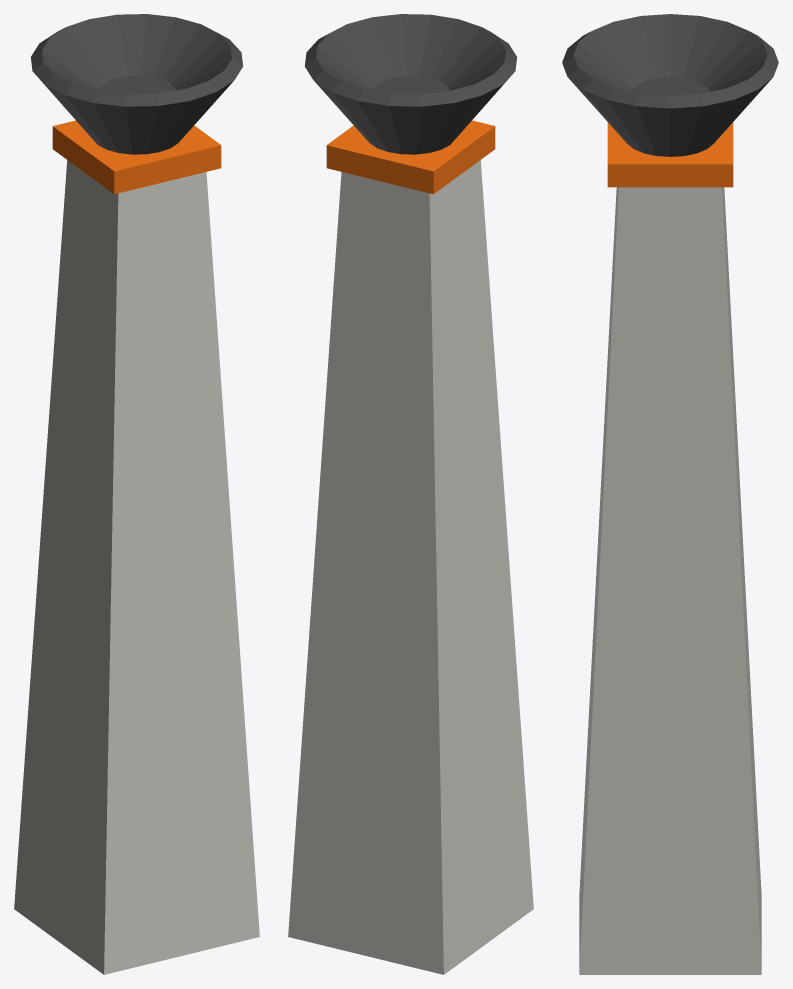
The model's file is SM_Torch.fbx.
The picture shows the model from 3 angles, left to right: view 1: azimuth 30°, elevation 25°; view 2: azimuth 150°, elevation 25°; view 3: azimuth 270°, elevation 25°; orthographic projection.
Visible parts, largest first — view 1: SM_Torch; view 2: SM_Torch; view 3: SM_Torch.
Part boxes in pixels (x1,y1,x2,y2): SM_Torch: [14, 14, 259, 974]; SM_Torch: [288, 14, 533, 974]; SM_Torch: [562, 14, 778, 974].
Bounding box in the file's own units: 380 × 380 × 1705.
